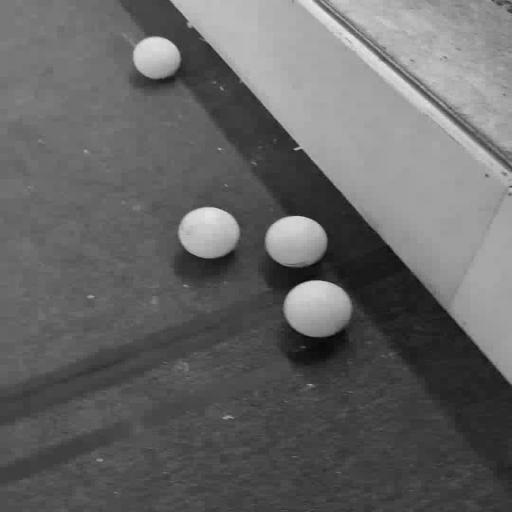fuel: (284, 281, 352, 337), (178, 207, 240, 259), (266, 216, 328, 267), (133, 37, 181, 79)
